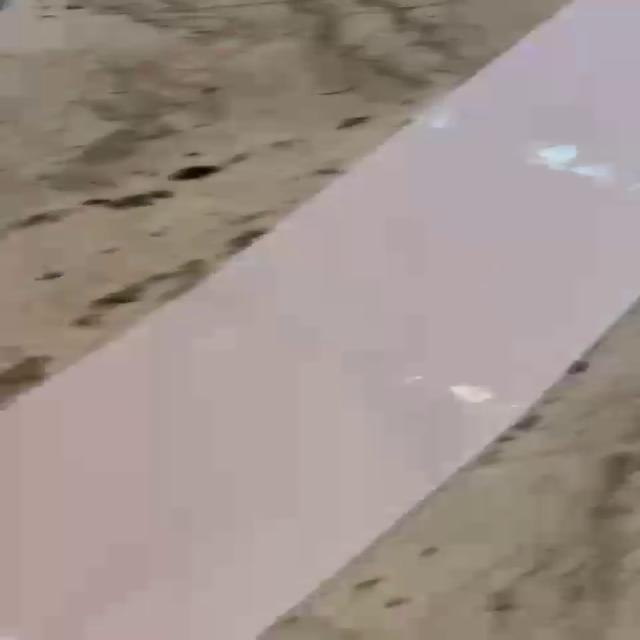road: (0, 0, 640, 640)
